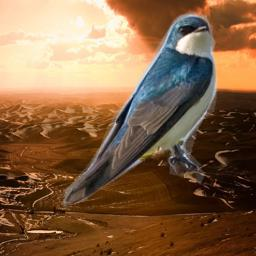Swallow: (57, 8, 224, 209)
